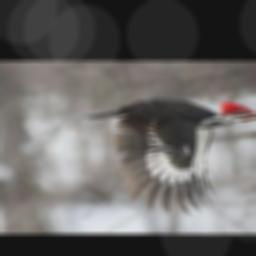Woodpecker: (83, 100, 256, 213)
